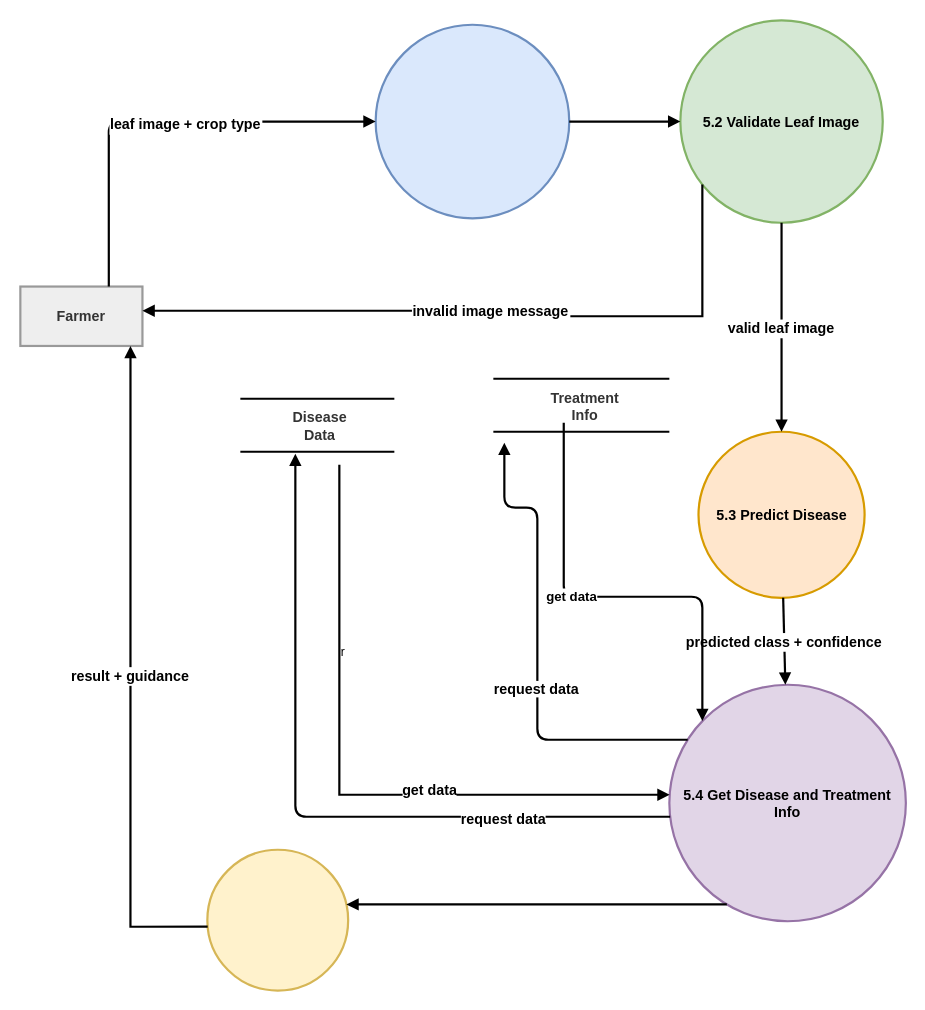
This 925x1010 diagram has some shape labels left out. The centre of each missing label's shape, as x and y in pixels:
"5.1 Submit Leaf Image" belongs at (x=472, y=121).
"5.5 Show Result" belongs at (x=277, y=919).
